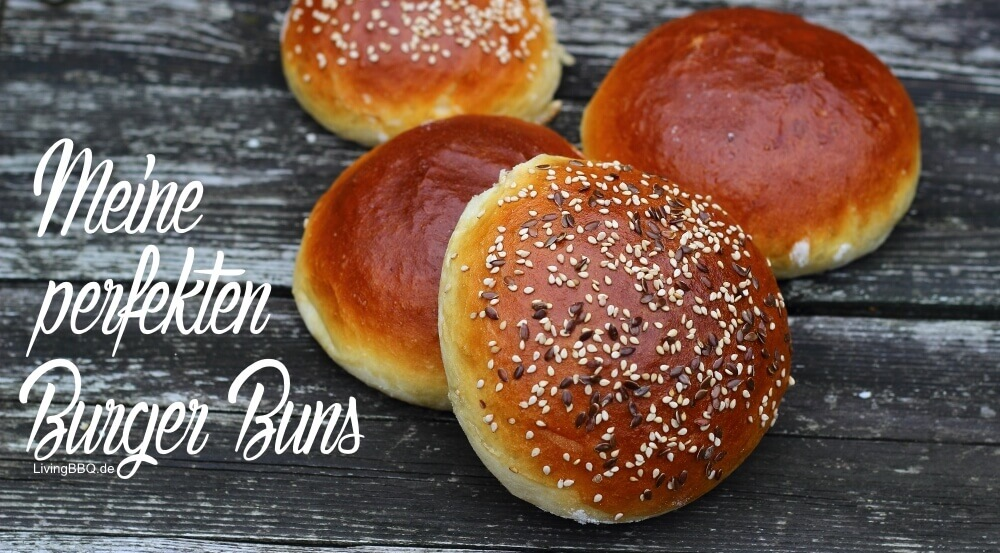hamburger_buns: (448, 142, 817, 525), (554, 8, 942, 283)
